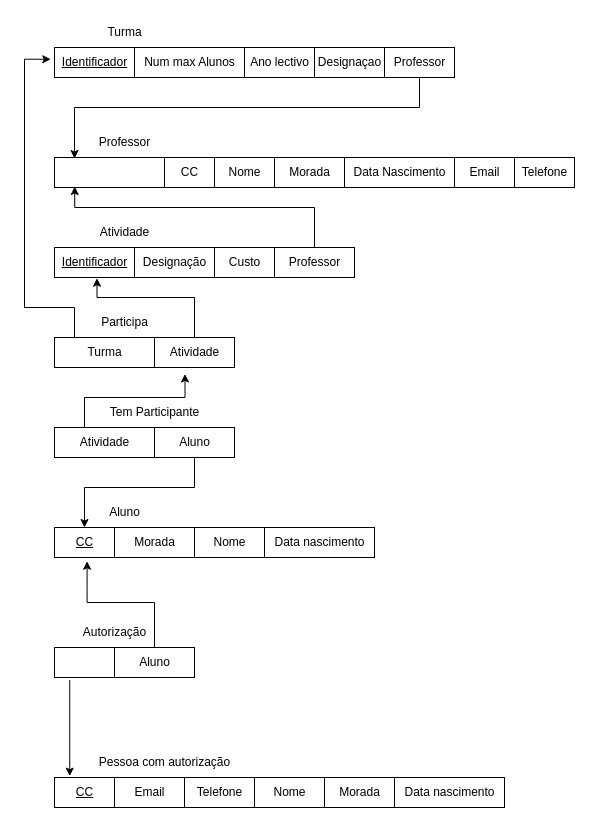
The diagram is 592 pixels wide and 825 high, and some of its shapes have lost their labels. Each missing label, with the box of its shape:
Num Funcionário: (54, 156, 164, 188)
Pessoa: (54, 646, 114, 678)
